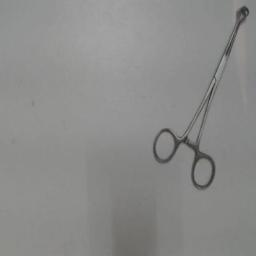Babcock Tissue Forceps: (150, 2, 250, 192)
